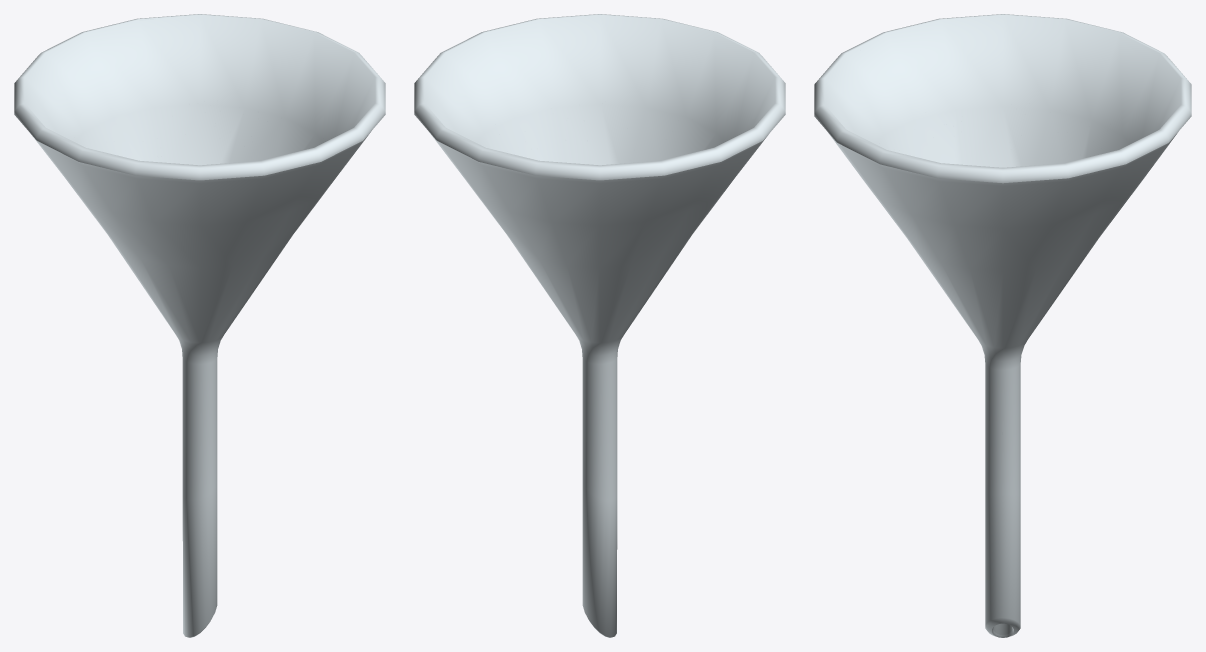
Rendered from entonnoir.glb.
The picture shows the model from 3 angles, left to right: view 1: azimuth 30°, elevation 25°; view 2: azimuth 150°, elevation 25°; view 3: azimuth 270°, elevation 25°; orthographic projection.
Parts seen in each view (by area): view 1: model_0; view 2: model_0; view 3: model_0.
Boxes of the visible parts, x1=… form: model_0: x1=14, y1=14, x2=385, y2=637; model_0: x1=414, y1=14, x2=785, y2=637; model_0: x1=814, y1=14, x2=1191, y2=637.
Bounding box in the file's own units: 0.0823 × 0.1308 × 0.081.
Materials: 1 (1 with a texture image).
